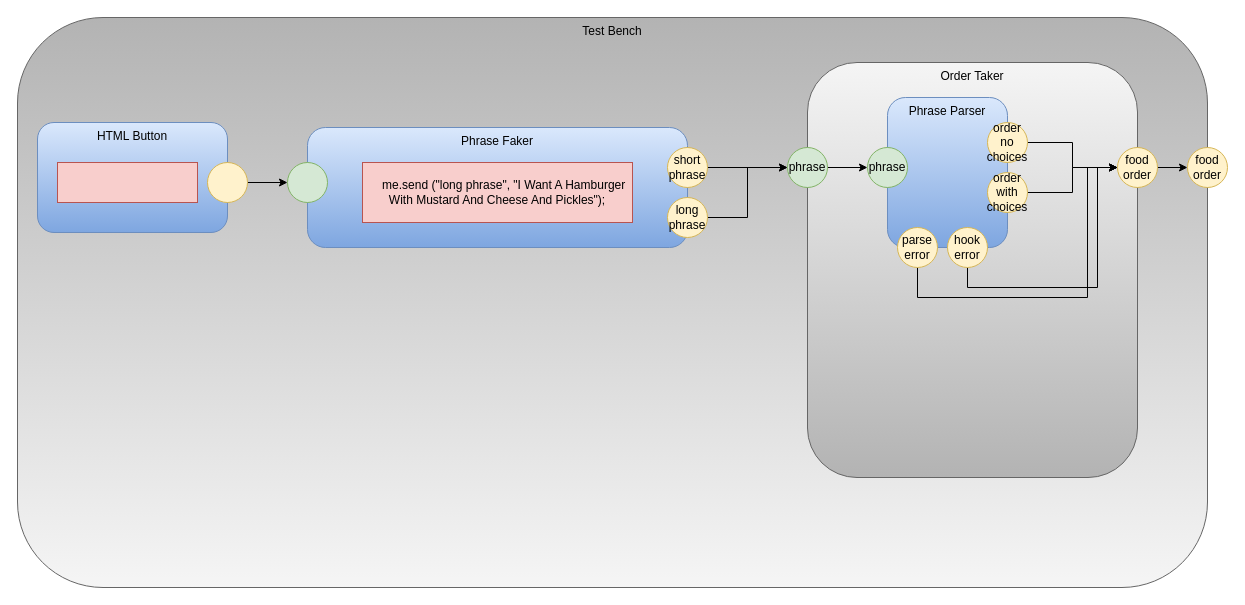
This 1245x605 diagram has some shape labels left out. Here are the shapes that lost their labels. From the top down, the centre of each, then its label:
the point at 127,182: me.send ("click", true);
the point at 227,182: click
the point at 307,182: go
